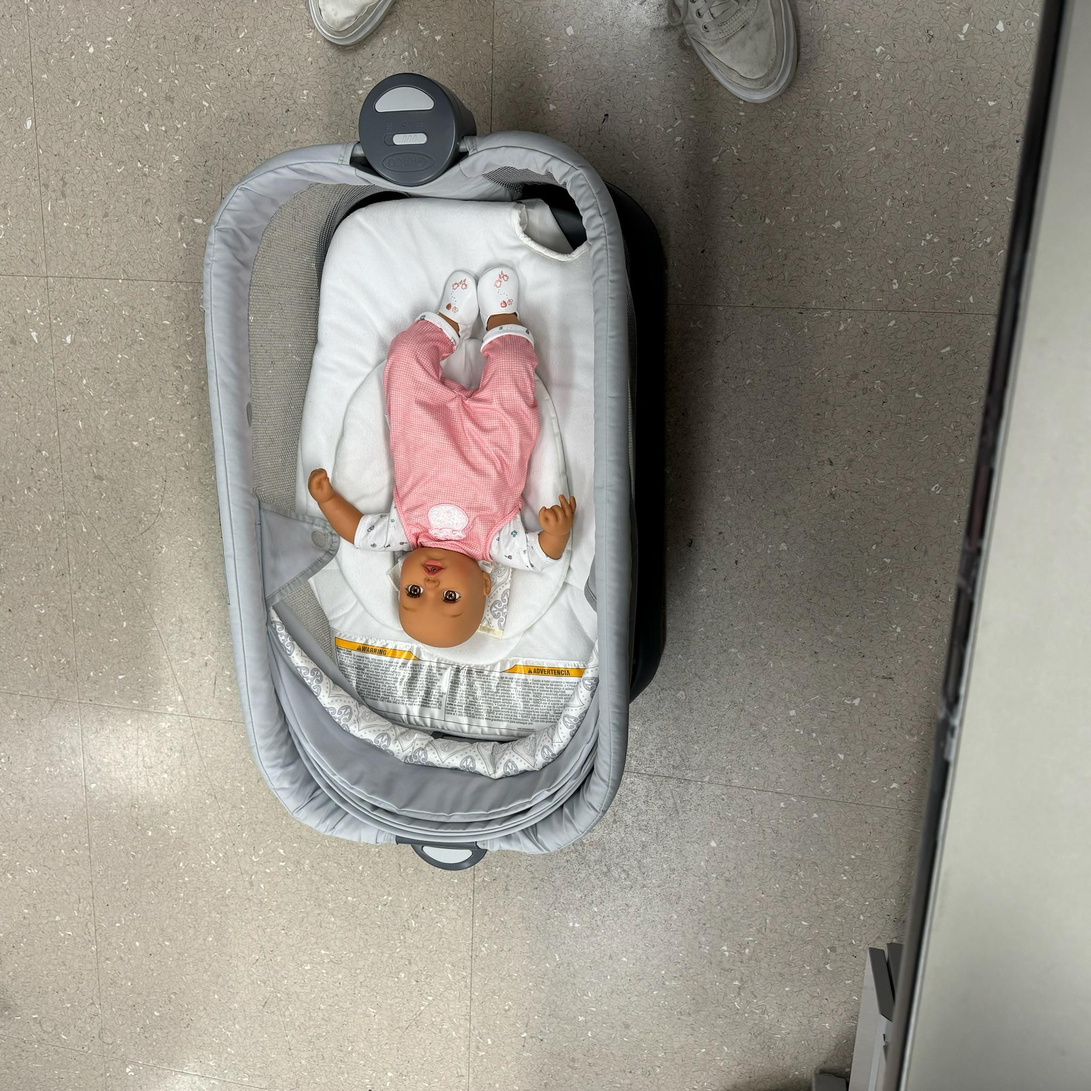baby: (296, 262, 580, 654)
